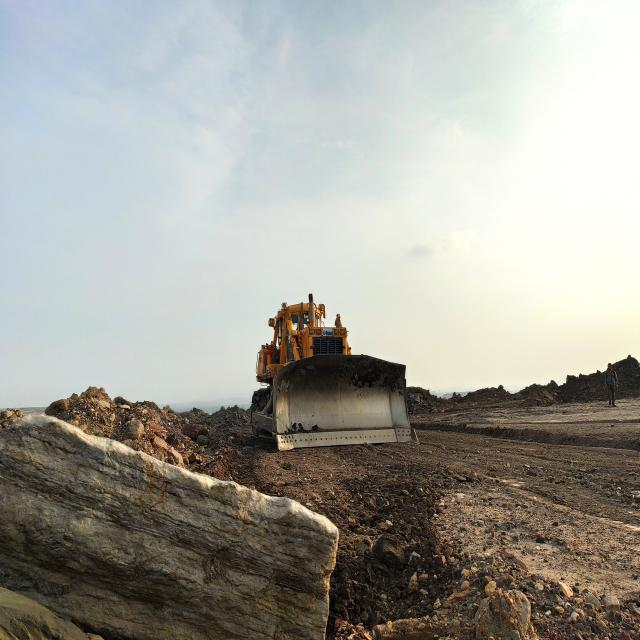buldozerpayloadergrader: (251, 295, 416, 450)
